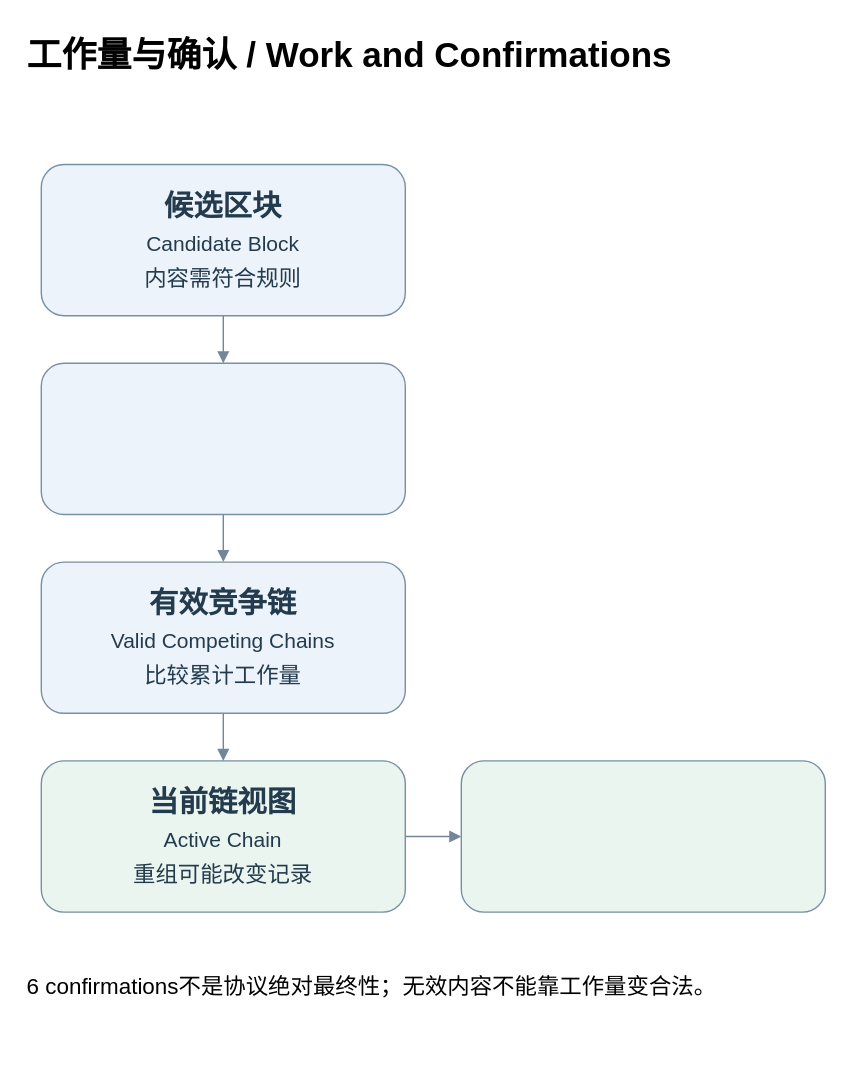
Image size: 865x1085. Some labels were removed from this diagram. The shapes that lost their labels are listed below. From the top down, each one's centre as x and y in pixels, then its label:
(222,438): 寻找目标哈希 Proof of Work 尝试nonce与其他变化
(642,836): 后续确认 More Confirmations 通常提高替换难度
